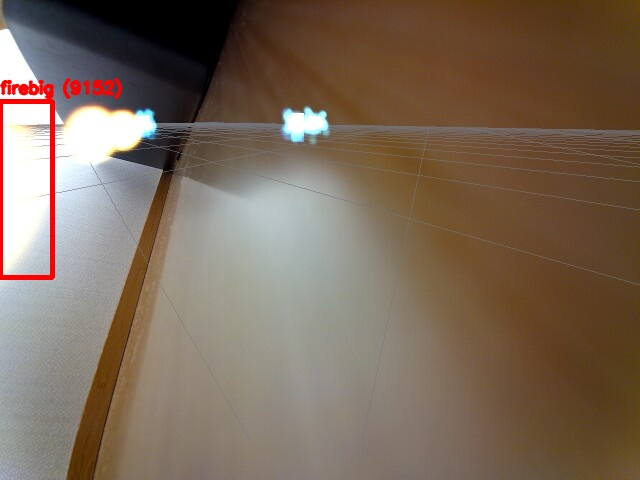firebig: (0, 101, 52, 277)
